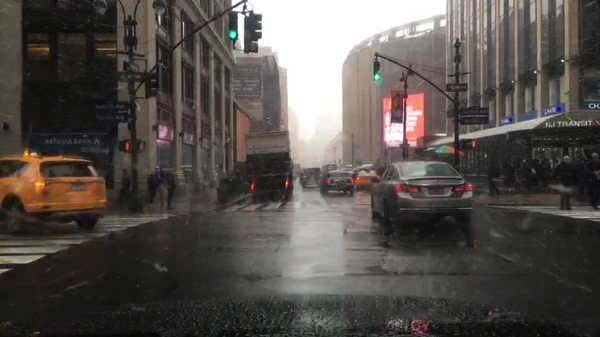car: (0, 154, 107, 234), (370, 160, 474, 228), (319, 170, 356, 195), (301, 167, 323, 188), (356, 170, 379, 189), (322, 163, 338, 170), (343, 168, 354, 174)
person: (554, 155, 577, 211), (581, 152, 599, 211), (117, 167, 133, 208), (576, 154, 590, 197), (486, 160, 500, 197), (165, 166, 177, 208), (521, 154, 535, 190), (154, 165, 165, 206), (147, 168, 158, 206), (503, 153, 514, 191), (539, 153, 551, 186), (230, 163, 242, 193), (217, 162, 228, 184)
traffic light: (244, 9, 264, 56), (145, 71, 159, 102), (228, 10, 239, 41), (372, 61, 382, 82), (118, 139, 129, 154), (460, 138, 475, 148), (136, 139, 146, 152)
traffic sign: (114, 72, 145, 81), (446, 81, 468, 91), (122, 60, 140, 72)
truck: (243, 130, 294, 198)
